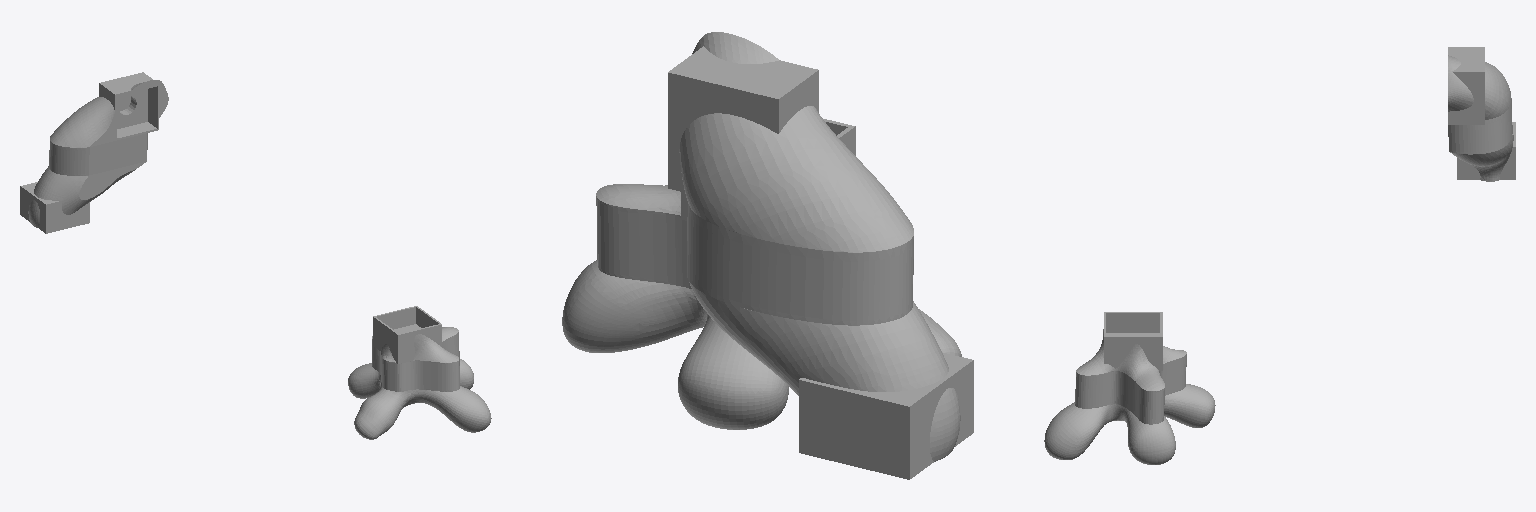
URDF robot description (FrogBot2_top-FrogBot2-x-6_bottom-FrogBot2-x-6):
<?xml version="1.0" ?>
<robot name="FrogBot2_top-FrogBot2-x-6_bottom-FrogBot2-x-6">

<material name="pla_5_percent_infill">
  <color rgba="0.700 0.700 0.700 1.000"/>
</material>

<link name="base_link">
  <inertial>
    <origin xyz="0 0 0" rpy="0 0 0"/>
    <mass value="1.3341577719423"/>
    <inertia ixx="0.0046797925109551535" iyy="0.011134478382956087" izz="0.010477176548232322" ixy="0.00012495104989682923" iyz="8.213962567094231e-05" ixz="-0.002474445058077271"/>
  </inertial>
  <visual>
    <origin xyz="0 0 0" rpy="0 0 0"/>
    <geometry>
      <mesh filename="simple_meshes/base_link.stl" scale="0.001 0.001 0.001"/>
    </geometry>
    <material name="pla_5_percent_infill"/>
  </visual>
  <collision>
    <origin xyz="0 0 0" rpy="0 0 0"/>
    <geometry>
      <mesh filename="simple_meshes/base_link.stl" scale="0.001 0.001 0.001"/>
    </geometry>
  </collision>
</link>

<link name="body_1_0_1">
  <inertial>
    <origin xyz="-0.053395 -0.09218 -0.023663" rpy="0 0 0"/>
    <mass value="0.06347759078073578"/>
    <inertia ixx="0.00011158883821198" iyy="0.0001149475584763007" izz="2.0603772154120488e-05" ixy="-1.705502728297642e-07" iyz="6.767468541279801e-06" ixz="9.696878222984444e-06"/>
  </inertial>
  <visual>
    <origin xyz="-0.053395 -0.09218 -0.023663" rpy="0 0 0"/>
    <geometry>
      <mesh filename="simple_meshes/body_1_0_1.stl" scale="0.001 0.001 0.001"/>
    </geometry>
    <material name="pla_5_percent_infill"/>
  </visual>
  <collision>
    <origin xyz="-0.053395 -0.09218 -0.023663" rpy="0 0 0"/>
    <geometry>
      <mesh filename="simple_meshes/body_1_0_1.stl" scale="0.001 0.001 0.001"/>
    </geometry>
  </collision>
</link>

<link name="body_1_1_1">
  <inertial>
    <origin xyz="0.095032 -0.09218 0.005345" rpy="0 0 0"/>
    <mass value="0.1375647819634121"/>
    <inertia ixx="0.00013450010726086432" iyy="0.00021529514898856747" izz="0.0001310595438598636" ixy="5.962388719733466e-06" iyz="6.895715783458581e-06" ixz="-5.3421044794158185e-05"/>
  </inertial>
  <visual>
    <origin xyz="0.095032 -0.09218 0.005345" rpy="0 0 0"/>
    <geometry>
      <mesh filename="simple_meshes/body_1_1_1.stl" scale="0.001 0.001 0.001"/>
    </geometry>
    <material name="pla_5_percent_infill"/>
  </visual>
  <collision>
    <origin xyz="0.095032 -0.09218 0.005345" rpy="0 0 0"/>
    <geometry>
      <mesh filename="simple_meshes/body_1_1_1.stl" scale="0.001 0.001 0.001"/>
    </geometry>
  </collision>
</link>

<link name="body_1_2_1">
  <inertial>
    <origin xyz="-0.041549 0.09218 -0.043945" rpy="0 0 0"/>
    <mass value="0.06941051566732093"/>
    <inertia ixx="0.0001807510921502495" iyy="0.00018573936195636509" izz="3.173488460750818e-05" ixy="1.411967337624164e-06" iyz="-2.2616066893769564e-05" ixz="2.3022695086177768e-05"/>
  </inertial>
  <visual>
    <origin xyz="-0.041549 0.09218 -0.043945" rpy="0 0 0"/>
    <geometry>
      <mesh filename="simple_meshes/body_1_2_1.stl" scale="0.001 0.001 0.001"/>
    </geometry>
    <material name="pla_5_percent_infill"/>
  </visual>
  <collision>
    <origin xyz="-0.041549 0.09218 -0.043945" rpy="0 0 0"/>
    <geometry>
      <mesh filename="simple_meshes/body_1_2_1.stl" scale="0.001 0.001 0.001"/>
    </geometry>
  </collision>
</link>

<link name="body_1_3_1">
  <inertial>
    <origin xyz="0.087142 0.09218 -0.003397" rpy="0 0 0"/>
    <mass value="0.14113875980041166"/>
    <inertia ixx="0.0001387785366970015" iyy="0.0002178656885715529" izz="0.00013271128639745066" ixy="-1.0265542698477056e-05" iyz="-7.0218821571322405e-06" ixz="-5.366467636082632e-05"/>
  </inertial>
  <visual>
    <origin xyz="0.087142 0.09218 -0.003397" rpy="0 0 0"/>
    <geometry>
      <mesh filename="simple_meshes/body_1_3_1.stl" scale="0.001 0.001 0.001"/>
    </geometry>
    <material name="pla_5_percent_infill"/>
  </visual>
  <collision>
    <origin xyz="0.087142 0.09218 -0.003397" rpy="0 0 0"/>
    <geometry>
      <mesh filename="simple_meshes/body_1_3_1.stl" scale="0.001 0.001 0.001"/>
    </geometry>
  </collision>
</link>

<link name="body_2_0_1">
  <inertial>
    <origin xyz="-0.065654 -0.139685 0.124558" rpy="0 0 0"/>
    <mass value="0.15742498639024655"/>
    <inertia ixx="0.0001992783625421185" iyy="0.00019963963616933308" izz="0.0002599166064679139" ixy="-2.024174792807673e-05" iyz="1.227014732632474e-05" ixz="9.17748337438953e-06"/>
  </inertial>
  <visual>
    <origin xyz="-0.065654 -0.139685 0.124558" rpy="0 0 0"/>
    <geometry>
      <mesh filename="simple_meshes/body_2_0_1.stl" scale="0.001 0.001 0.001"/>
    </geometry>
    <material name="pla_5_percent_infill"/>
  </visual>
  <collision>
    <origin xyz="-0.065654 -0.139685 0.124558" rpy="0 0 0"/>
    <geometry>
      <mesh filename="simple_meshes/body_2_0_1.stl" scale="0.001 0.001 0.001"/>
    </geometry>
  </collision>
</link>

<link name="body_2_1_1">
  <inertial>
    <origin xyz="0.15751 -0.143533 0.124558" rpy="0 0 0"/>
    <mass value="0.10826269923717884"/>
    <inertia ixx="0.00011335958045163071" iyy="0.00013273003128751095" izz="0.00011052754789189333" ixy="-1.662120824568597e-07" iyz="2.8498979224944685e-05" ixz="1.5765773745120976e-05"/>
  </inertial>
  <visual>
    <origin xyz="0.15751 -0.143533 0.124558" rpy="0 0 0"/>
    <geometry>
      <mesh filename="simple_meshes/body_2_1_1.stl" scale="0.001 0.001 0.001"/>
    </geometry>
    <material name="pla_5_percent_infill"/>
  </visual>
  <collision>
    <origin xyz="0.15751 -0.143533 0.124558" rpy="0 0 0"/>
    <geometry>
      <mesh filename="simple_meshes/body_2_1_1.stl" scale="0.001 0.001 0.001"/>
    </geometry>
  </collision>
</link>

<link name="body_2_2_1">
  <inertial>
    <origin xyz="-0.061161 0.145934 0.124558" rpy="0 0 0"/>
    <mass value="0.1415380607825981"/>
    <inertia ixx="0.00017188460692333513" iyy="0.00018387938025683174" izz="0.00022861520795818728" ixy="1.1132145203166183e-05" iyz="-5.52477361085834e-06" ixz="2.1366579291272163e-06"/>
  </inertial>
  <visual>
    <origin xyz="-0.061161 0.145934 0.124558" rpy="0 0 0"/>
    <geometry>
      <mesh filename="simple_meshes/body_2_2_1.stl" scale="0.001 0.001 0.001"/>
    </geometry>
    <material name="pla_5_percent_infill"/>
  </visual>
  <collision>
    <origin xyz="-0.061161 0.145934 0.124558" rpy="0 0 0"/>
    <geometry>
      <mesh filename="simple_meshes/body_2_2_1.stl" scale="0.001 0.001 0.001"/>
    </geometry>
  </collision>
</link>

<link name="body_2_3_1">
  <inertial>
    <origin xyz="0.160089 0.145768 0.124558" rpy="0 0 0"/>
    <mass value="0.10095500285344944"/>
    <inertia ixx="0.0001204808587474673" iyy="0.00012708616092334864" izz="0.00010735264188214272" ixy="-4.8305779049577675e-06" iyz="-3.35844659359822e-05" ixz="1.724680524366586e-05"/>
  </inertial>
  <visual>
    <origin xyz="0.160089 0.145768 0.124558" rpy="0 0 0"/>
    <geometry>
      <mesh filename="simple_meshes/body_2_3_1.stl" scale="0.001 0.001 0.001"/>
    </geometry>
    <material name="pla_5_percent_infill"/>
  </visual>
  <collision>
    <origin xyz="0.160089 0.145768 0.124558" rpy="0 0 0"/>
    <geometry>
      <mesh filename="simple_meshes/body_2_3_1.stl" scale="0.001 0.001 0.001"/>
    </geometry>
  </collision>
</link>

<joint name="joint_1_0" type="revolute">
  <origin xyz="0.053395 0.09218 0.023663" rpy="0 0 0"/>
  <parent link="base_link"/>
  <child link="body_1_0_1"/>
  <axis xyz="1.0 0.0 0.0"/>
  <limit upper="1.2" lower="-1.2" effort="3.8" velocity="5.4"/>
</joint>
<transmission name="joint_1_0_tran">
  <type>transmission_interface/SimpleTransmission</type>
  <joint name="joint_1_0">
    <hardwareInterface>PositionJointInterface</hardwareInterface>
  </joint>
  <actuator name="joint_1_0_actr">
    <hardwareInterface>PositionJointInterface</hardwareInterface>
    <mechanicalReduction>1</mechanicalReduction>
  </actuator>
</transmission>

<joint name="joint_1_1" type="revolute">
  <origin xyz="-0.095032 0.09218 -0.005345" rpy="0 0 0"/>
  <parent link="base_link"/>
  <child link="body_1_1_1"/>
  <axis xyz="1.0 0.0 0.0"/>
  <limit upper="1.2" lower="-1.2" effort="3.8" velocity="5.4"/>
</joint>
<transmission name="joint_1_1_tran">
  <type>transmission_interface/SimpleTransmission</type>
  <joint name="joint_1_1">
    <hardwareInterface>PositionJointInterface</hardwareInterface>
  </joint>
  <actuator name="joint_1_1_actr">
    <hardwareInterface>PositionJointInterface</hardwareInterface>
    <mechanicalReduction>1</mechanicalReduction>
  </actuator>
</transmission>

<joint name="joint_1_2" type="revolute">
  <origin xyz="0.041549 -0.09218 0.043945" rpy="0 0 0"/>
  <parent link="base_link"/>
  <child link="body_1_2_1"/>
  <axis xyz="1.0 0.0 0.0"/>
  <limit upper="1.2" lower="-1.2" effort="3.8" velocity="5.4"/>
</joint>
<transmission name="joint_1_2_tran">
  <type>transmission_interface/SimpleTransmission</type>
  <joint name="joint_1_2">
    <hardwareInterface>PositionJointInterface</hardwareInterface>
  </joint>
  <actuator name="joint_1_2_actr">
    <hardwareInterface>PositionJointInterface</hardwareInterface>
    <mechanicalReduction>1</mechanicalReduction>
  </actuator>
</transmission>

<joint name="joint_1_3" type="revolute">
  <origin xyz="-0.087142 -0.09218 0.003397" rpy="0 0 0"/>
  <parent link="base_link"/>
  <child link="body_1_3_1"/>
  <axis xyz="1.0 0.0 0.0"/>
  <limit upper="1.2" lower="-1.2" effort="3.8" velocity="5.4"/>
</joint>
<transmission name="joint_1_3_tran">
  <type>transmission_interface/SimpleTransmission</type>
  <joint name="joint_1_3">
    <hardwareInterface>PositionJointInterface</hardwareInterface>
  </joint>
  <actuator name="joint_1_3_actr">
    <hardwareInterface>PositionJointInterface</hardwareInterface>
    <mechanicalReduction>1</mechanicalReduction>
  </actuator>
</transmission>

<joint name="joint_2_0" type="revolute">
  <origin xyz="0.012259 0.047505 -0.148221" rpy="0 0 0"/>
  <parent link="body_1_0_1"/>
  <child link="body_2_0_1"/>
  <axis xyz="1.0 0.0 0.0"/>
  <limit upper="1.2" lower="-1.2" effort="3.8" velocity="5.4"/>
</joint>
<transmission name="joint_2_0_tran">
  <type>transmission_interface/SimpleTransmission</type>
  <joint name="joint_2_0">
    <hardwareInterface>PositionJointInterface</hardwareInterface>
  </joint>
  <actuator name="joint_2_0_actr">
    <hardwareInterface>PositionJointInterface</hardwareInterface>
    <mechanicalReduction>1</mechanicalReduction>
  </actuator>
</transmission>

<joint name="joint_2_1" type="revolute">
  <origin xyz="-0.062478 0.051353 -0.119213" rpy="0 0 0"/>
  <parent link="body_1_1_1"/>
  <child link="body_2_1_1"/>
  <axis xyz="1.0 0.0 0.0"/>
  <limit upper="1.2" lower="-1.2" effort="3.8" velocity="5.4"/>
</joint>
<transmission name="joint_2_1_tran">
  <type>transmission_interface/SimpleTransmission</type>
  <joint name="joint_2_1">
    <hardwareInterface>PositionJointInterface</hardwareInterface>
  </joint>
  <actuator name="joint_2_1_actr">
    <hardwareInterface>PositionJointInterface</hardwareInterface>
    <mechanicalReduction>1</mechanicalReduction>
  </actuator>
</transmission>

<joint name="joint_2_2" type="revolute">
  <origin xyz="0.019612 -0.053754 -0.168503" rpy="0 0 0"/>
  <parent link="body_1_2_1"/>
  <child link="body_2_2_1"/>
  <axis xyz="1.0 0.0 0.0"/>
  <limit upper="1.2" lower="-1.2" effort="3.8" velocity="5.4"/>
</joint>
<transmission name="joint_2_2_tran">
  <type>transmission_interface/SimpleTransmission</type>
  <joint name="joint_2_2">
    <hardwareInterface>PositionJointInterface</hardwareInterface>
  </joint>
  <actuator name="joint_2_2_actr">
    <hardwareInterface>PositionJointInterface</hardwareInterface>
    <mechanicalReduction>1</mechanicalReduction>
  </actuator>
</transmission>

<joint name="joint_2_3" type="revolute">
  <origin xyz="-0.072947 -0.053588 -0.127955" rpy="0 0 0"/>
  <parent link="body_1_3_1"/>
  <child link="body_2_3_1"/>
  <axis xyz="1.0 0.0 0.0"/>
  <limit upper="1.2" lower="-1.2" effort="3.8" velocity="5.4"/>
</joint>
<transmission name="joint_2_3_tran">
  <type>transmission_interface/SimpleTransmission</type>
  <joint name="joint_2_3">
    <hardwareInterface>PositionJointInterface</hardwareInterface>
  </joint>
  <actuator name="joint_2_3_actr">
    <hardwareInterface>PositionJointInterface</hardwareInterface>
    <mechanicalReduction>1</mechanicalReduction>
  </actuator>
</transmission>

</robot>

--- Facts derived from the render (not from the file) ---
3 views of the same robot in one strip: view 1: azimuth 30°, elevation 25°; view 2: azimuth 150°, elevation 25°; view 3: azimuth 270°, elevation 25° (orthographic).
Robot: FrogBot2_top-FrogBot2-x-6_bottom-FrogBot2-x-6 — 9 links, 8 joints (8 revolute); root link base_link; default pose: all joints at 0.
Links seen in each view (by area): view 1: body_1_1_1, body_2_2_1; view 2: body_1_1_1, body_2_2_1; view 3: body_2_2_1, body_1_1_1.
Link boxes in pixels (left/top/right/bottom): body_1_1_1: left=20, top=72, right=168, bottom=233; body_2_2_1: left=348, top=306, right=491, bottom=439; body_1_1_1: left=668, top=32, right=973, bottom=479; body_2_2_1: left=562, top=119, right=961, bottom=429; body_2_2_1: left=1044, top=312, right=1215, bottom=464; body_1_1_1: left=1448, top=47, right=1515, bottom=181.
Bounding box of the posed robot: 0.3234 × 0.3864 × 0.2785 m (x, y, z).
2 mesh visuals loaded from 9 distinct referenced files (2 binary STL); not drawn: 7 (reference not matched to a file when rendering).